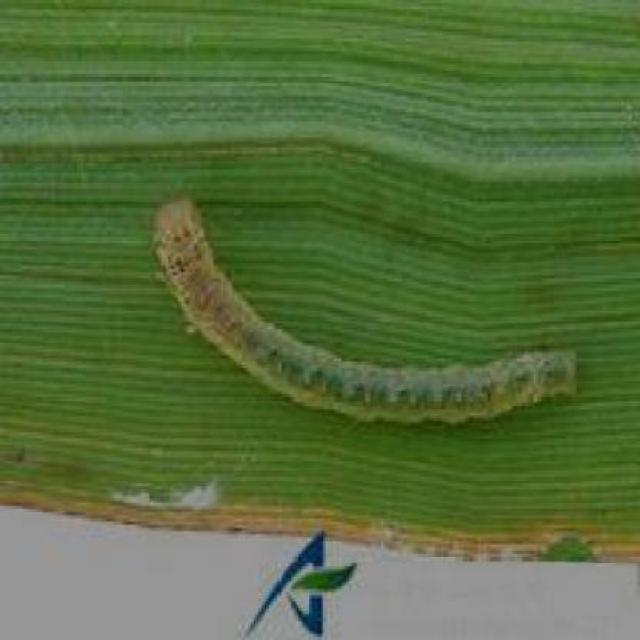leaf-folder: (134, 187, 591, 447)
